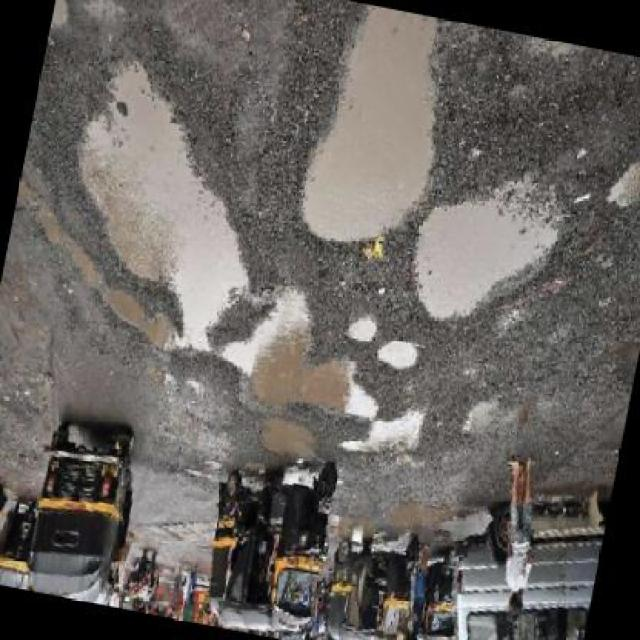pothole: (34, 52, 286, 380), (287, 0, 458, 265), (401, 158, 570, 344), (208, 277, 404, 435), (336, 395, 429, 471), (253, 411, 322, 466), (602, 152, 640, 221), (374, 336, 423, 379), (342, 314, 380, 348)
